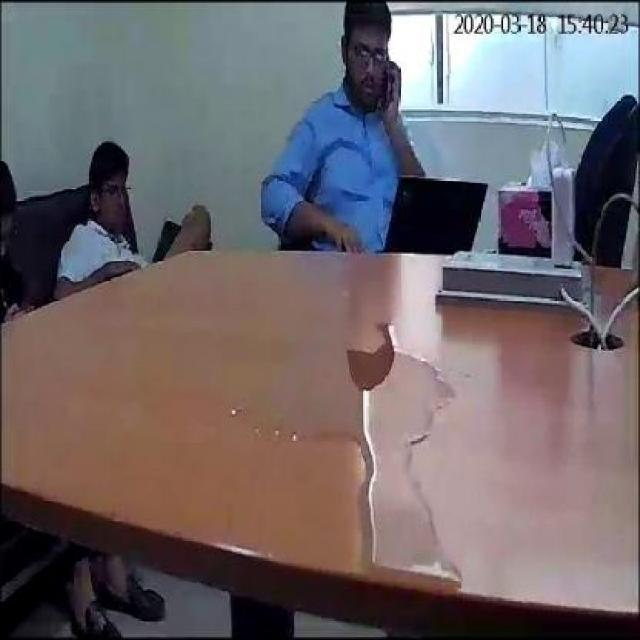spill: (240, 314, 458, 588)
